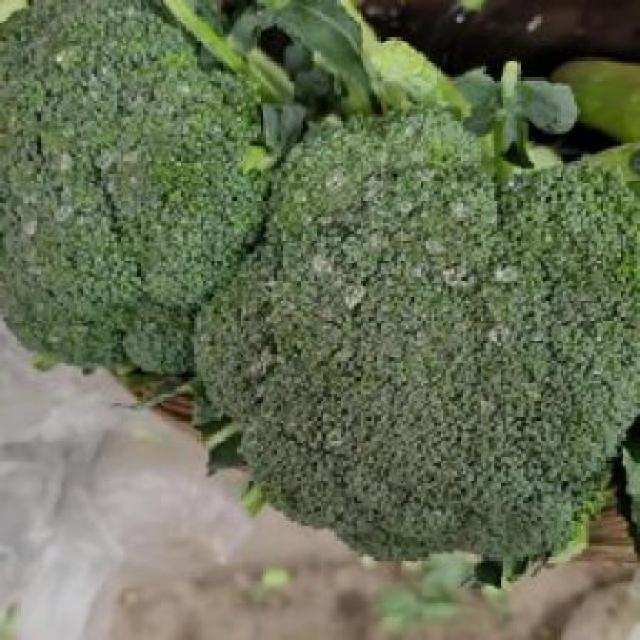broccoli: (248, 120, 622, 554), (3, 3, 243, 366)
